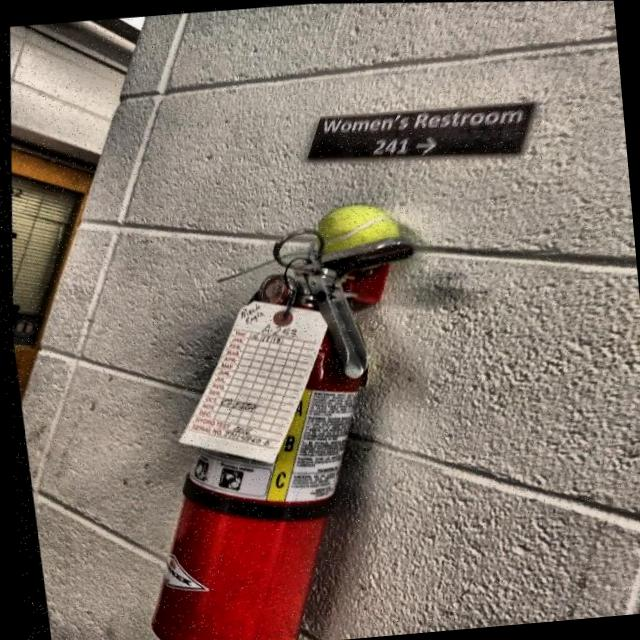Tennis Ball: (309, 194, 410, 271)
